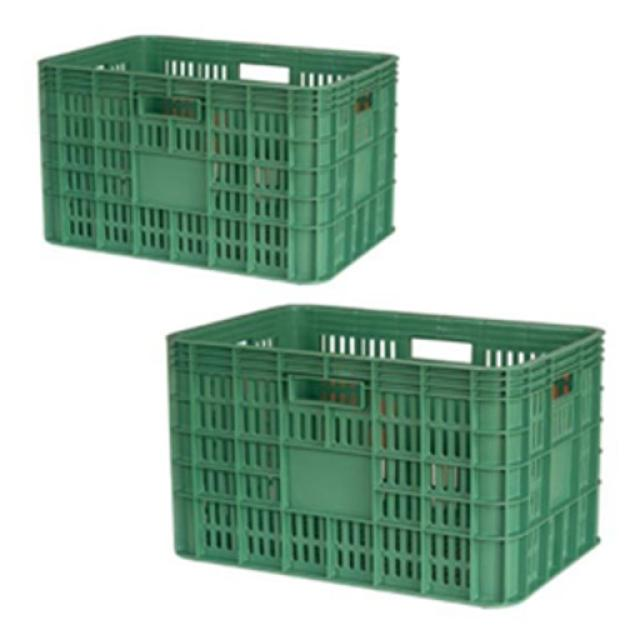basket: (150, 298, 615, 615), (22, 25, 409, 291)
